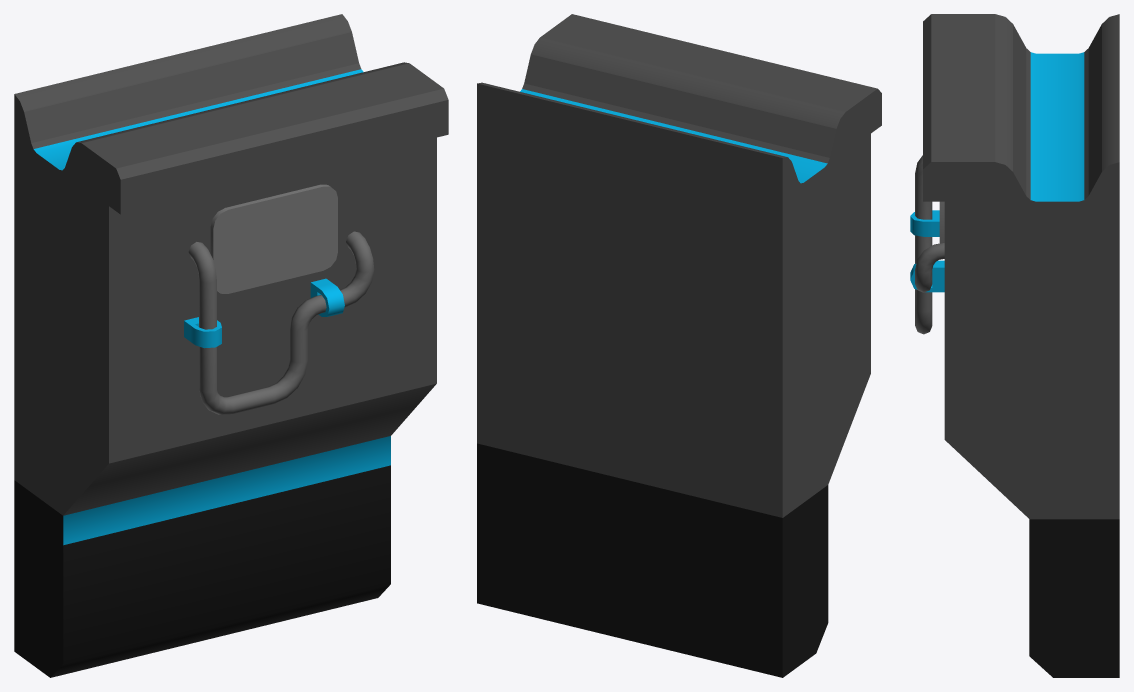
File: Floor_Edge_01G.fbx
3 renders of one model, left to right at view 1: azimuth 30°, elevation 25°; view 2: azimuth 150°, elevation 25°; view 3: azimuth 270°, elevation 25°, orthographic. The views are drawn at different scales.
Parts seen in each view (by area): view 1: Floor_Edge_01G; view 2: Floor_Edge_01G; view 3: Floor_Edge_01G.
Part boxes in pixels (<box>): Floor_Edge_01G: <box>14,14,448,677</box>; Floor_Edge_01G: <box>477,14,881,677</box>; Floor_Edge_01G: <box>910,14,1119,677</box>.
Size of the model in its own units: 400 by 650 by 239.
